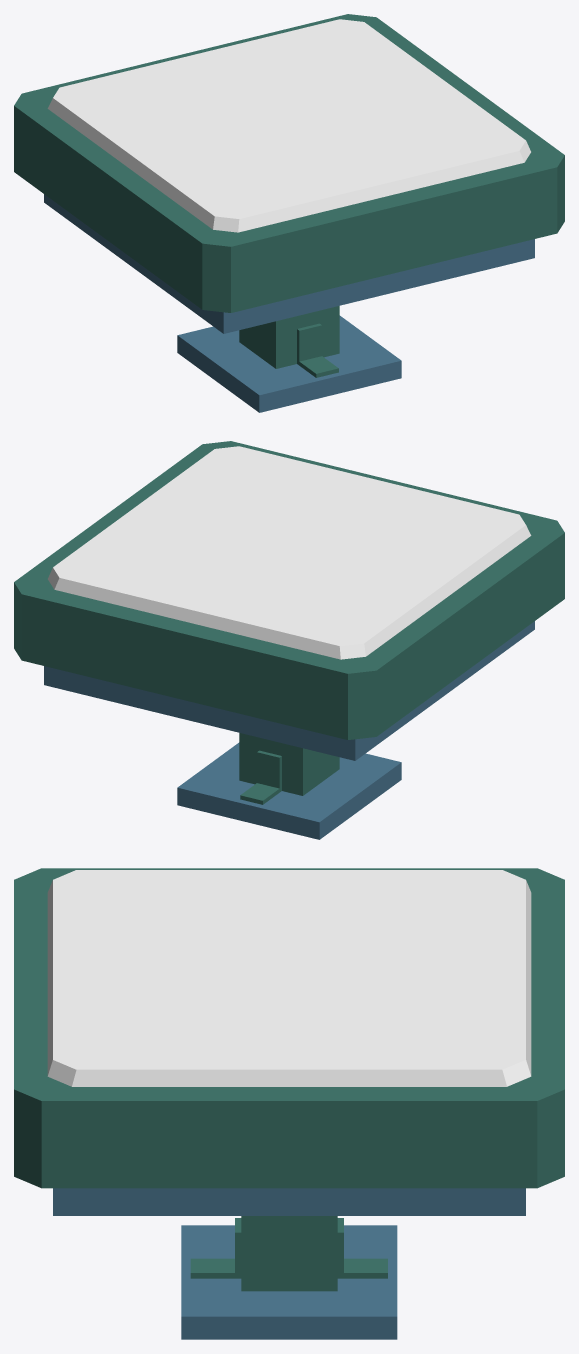
Rendered from SciFiTable.fbx.
The picture shows the model from 3 angles, top to bottom: view 1: azimuth 30°, elevation 25°; view 2: azimuth 150°, elevation 25°; view 3: azimuth 270°, elevation 25°; orthographic projection. The views are drawn at different scales.
Visible parts, largest first — view 1: polySurface2, polySurface1; view 2: polySurface2, polySurface1; view 3: polySurface2, polySurface1.
Part boxes in pixels (x1=…): polySurface2: x1=14, y1=14, x2=564, y2=412; polySurface1: x1=47, y1=19, x2=530, y2=232; polySurface2: x1=14, y1=441, x2=564, y2=839; polySurface1: x1=48, y1=446, x2=531, y2=659; polySurface2: x1=14, y1=868, x2=564, y2=1339; polySurface1: x1=47, y1=870, x2=531, y2=1086.
Size of the model in its own units: 80 by 51.95 by 80.
Materials: 1 (1 with a texture image).
